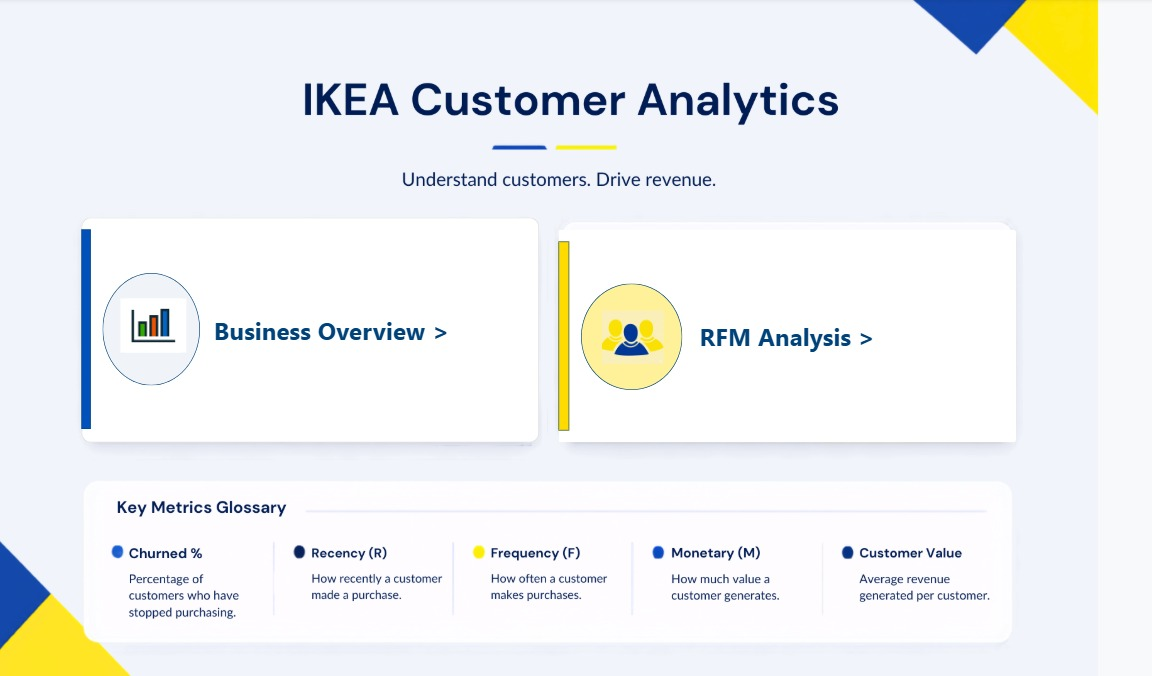

Layout of this report page (visuals, bound fields, positions):
{"tool":"powerbi","page":{"name":"Home","canvas":[1920,1080],"ordinal":0},"visuals":[{"type":"group","id":"g1","title":"Group 3","box":[217.1,350.7,727.7,357.9],"z":0},{"type":"group","id":"g2","title":"Group 1","box":[217.1,350.7,727.7,357.9],"z":0,"group":"g1"},{"type":"actionButton","box":[217.1,350.7,727.7,357.9],"z":0,"group":"g2"},{"type":"actionButton","box":[975.8,369.8,727.7,338.8],"z":0,"group":"g3"},{"type":"shape","box":[250.8,438.5,155.1,178.9],"z":0,"group":"g4"},{"type":"group","id":"g3","title":"Group 4","box":[975.8,369.8,727.7,338.8],"z":1000},{"type":"shape","box":[217.1,370.9,14.7,317.6],"z":1000,"group":"g2"},{"type":"shape","box":[975.8,388.9,17.1,300.6],"z":1000,"group":"g3"},{"type":"group","id":"g4","title":"Group 2","box":[250.8,438.5,155.1,178.9],"z":1000,"group":"g1"},{"type":"image","box":[279.4,478.5,105,85.7],"z":1000,"group":"g4"},{"type":"shape","box":[1012.4,455.7,161.2,169.4],"z":2000,"group":"g3"},{"type":"image","box":[1044.2,489.1,97.7,105],"z":3000,"group":"g3"}]}

Visuals, with their boxes on the page's 1920x1080 design canvas (x1, y1, x2, y2). These are canvas units, not pixel positions in the 1152x676 screenshot, which may show the page scaled, cropped or inside an application window:
"Group 3" group: box(217, 351, 945, 709)
"Group 1" group: box(217, 351, 945, 709)
actionButton: box(217, 351, 945, 709)
actionButton: box(976, 370, 1704, 709)
shape: box(251, 438, 406, 617)
"Group 4" group: box(976, 370, 1704, 709)
shape: box(217, 371, 232, 688)
shape: box(976, 389, 993, 690)
"Group 2" group: box(251, 438, 406, 617)
image: box(279, 478, 384, 564)
shape: box(1012, 456, 1174, 625)
image: box(1044, 489, 1142, 594)
